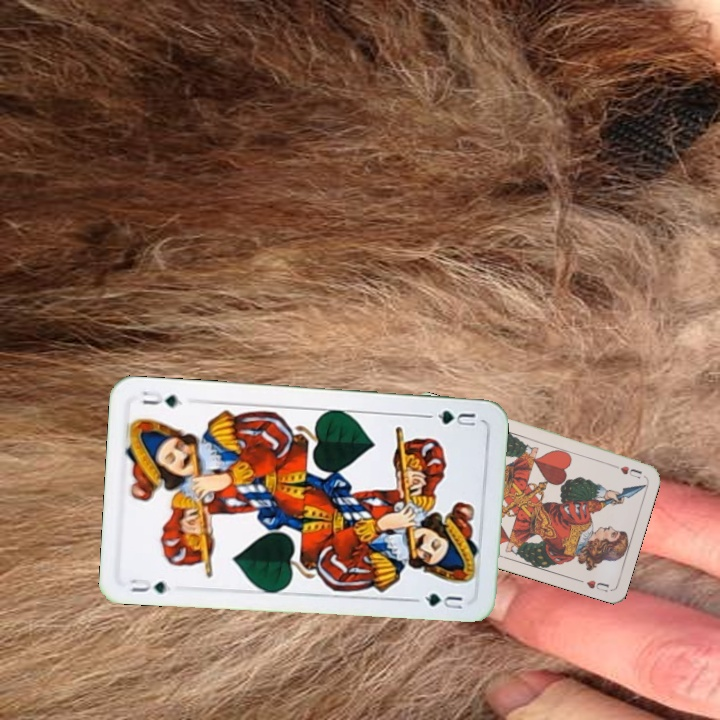GU: (433, 406, 478, 429), (126, 574, 173, 596)
HU: (606, 460, 644, 481)
